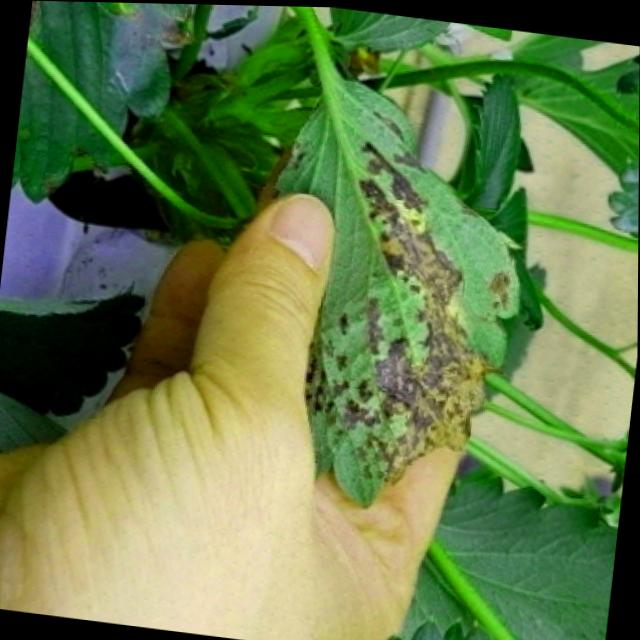Angular Leafspot: (272, 72, 523, 508)
